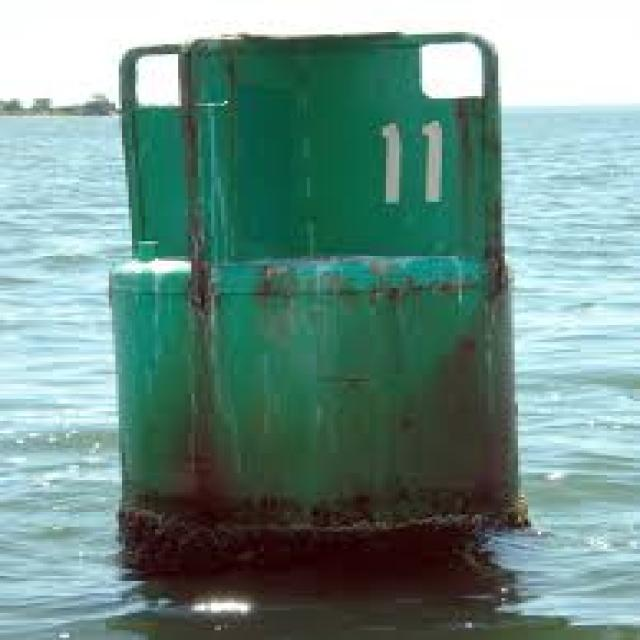buoy: (94, 19, 545, 579)
